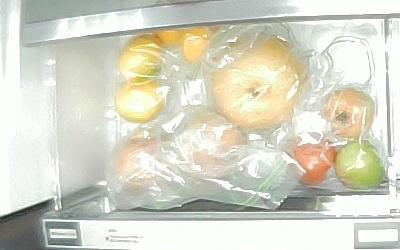peach_vinyl: (178, 110, 246, 178), (112, 128, 167, 199)
pear_vinyl: (211, 39, 302, 129)
tangerine_vinyl: (117, 34, 164, 86), (113, 79, 164, 123)
tomato_vinyl: (323, 88, 376, 141), (288, 132, 337, 188), (334, 141, 385, 191)
